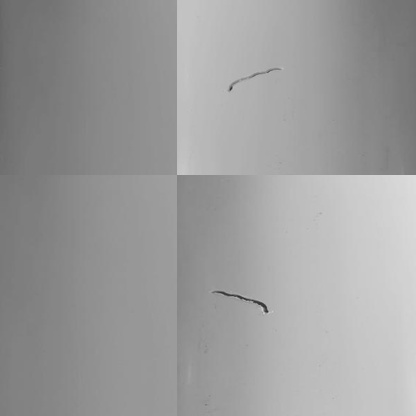fengxi: (211, 285, 273, 323), (223, 65, 285, 94)
